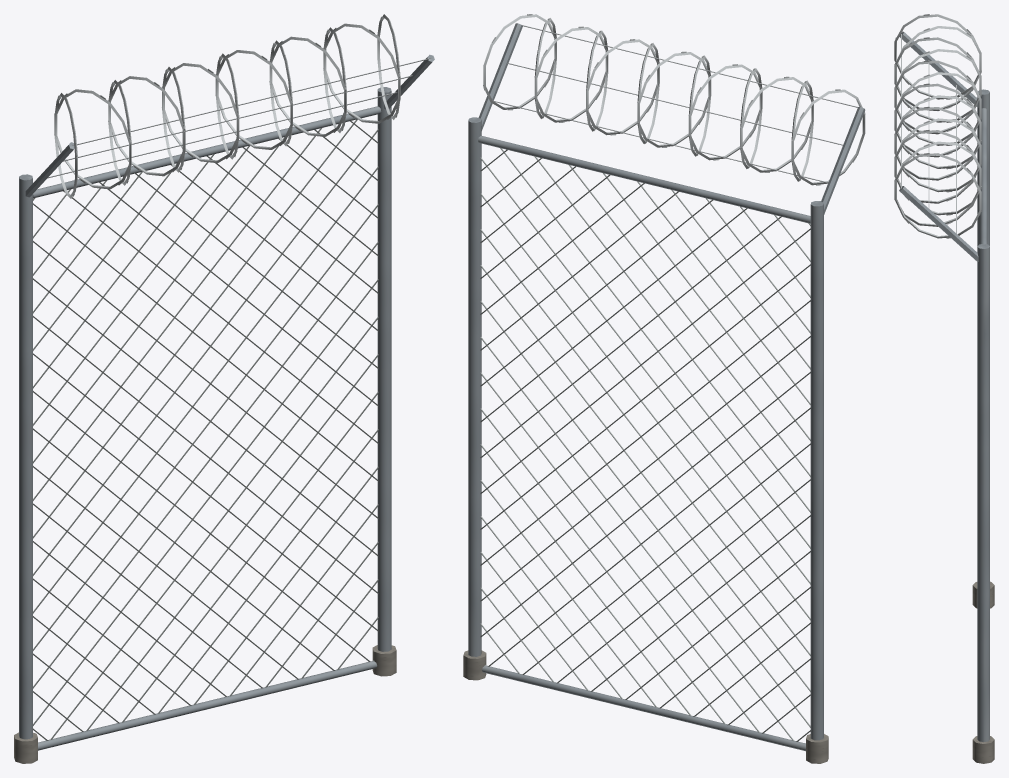
Rendered from fence_razor.fbx.
3 renders of one model, left to right at view 1: azimuth 30°, elevation 25°; view 2: azimuth 150°, elevation 25°; view 3: azimuth 270°, elevation 25°, orthographic. The views are drawn at different scales.
Parts seen in each view (by area): view 1: fence_razor, fence_razor_top; view 2: fence_razor, fence_razor_top; view 3: fence_razor_top, fence_razor.
Part boxes in pixels (box(x1,y1,x2,y2)): fence_razor: box(14, 87, 396, 763); fence_razor_top: box(25, 14, 434, 198); fence_razor: box(463, 117, 828, 763); fence_razor_top: box(478, 14, 865, 214); fence_razor_top: box(894, 14, 981, 261); fence_razor: box(972, 89, 994, 763).
Bounding box in the file's own units: 2.12 × 3.61 × 0.5499.
1 material, 1 textured.
